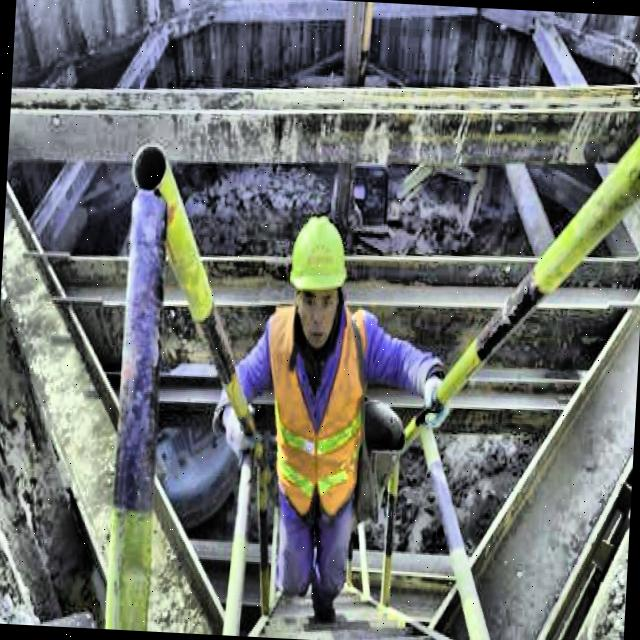helmet: (278, 202, 354, 348)
